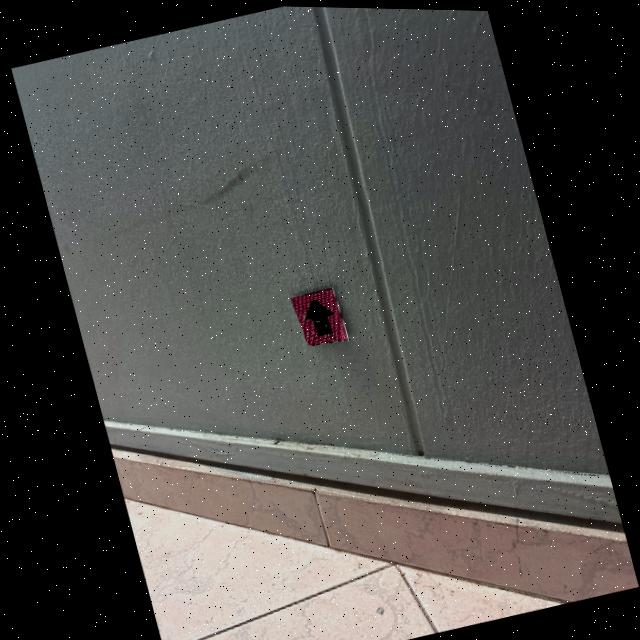UP: (303, 298, 335, 335)
